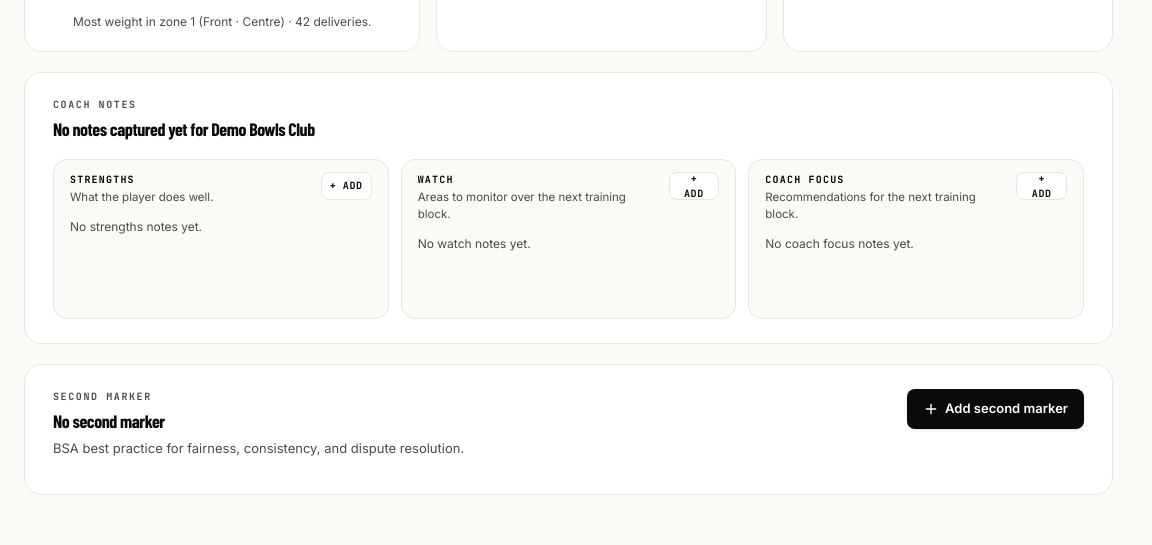
Scenario: <AssessmentResults /> — notes section (12-4 / N8 categorised) › clicking Edit reveals the tile's textarea + Save / Cancel
(page scrolled)
Click the button "+ Add" next to "What the player does well." at (346,186), box [321, 172, 372, 200]
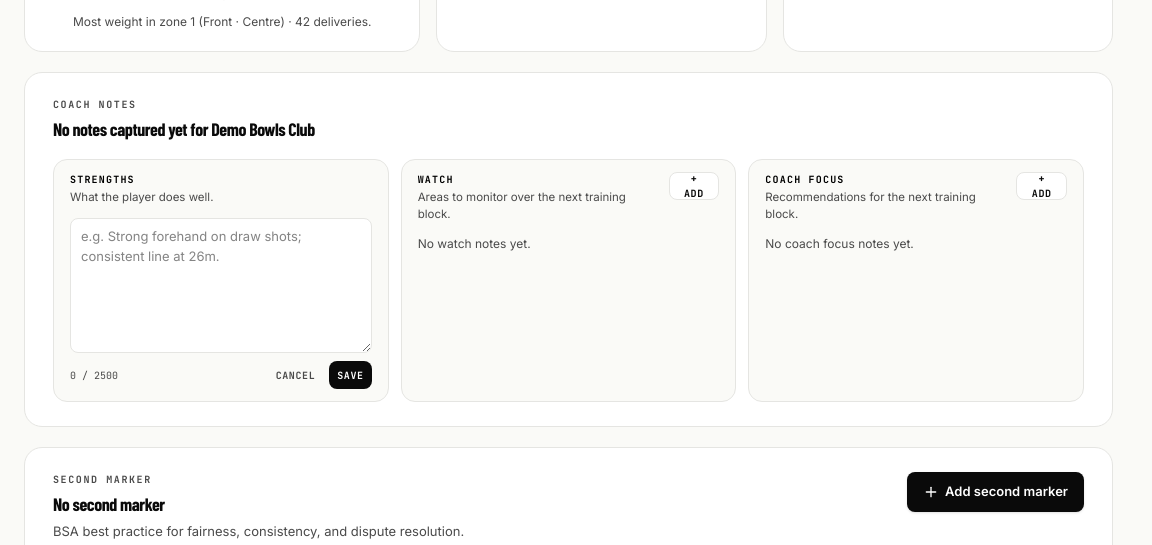
Expected: the text box with placeholder "e.g. Strong forehand on draw shots; consistent line at 26m." is shown, [70, 218, 372, 353]
Expected: the button "Save" is shown, [329, 361, 372, 389]
Expected: the button "Cancel" is shown, [268, 361, 323, 389]
